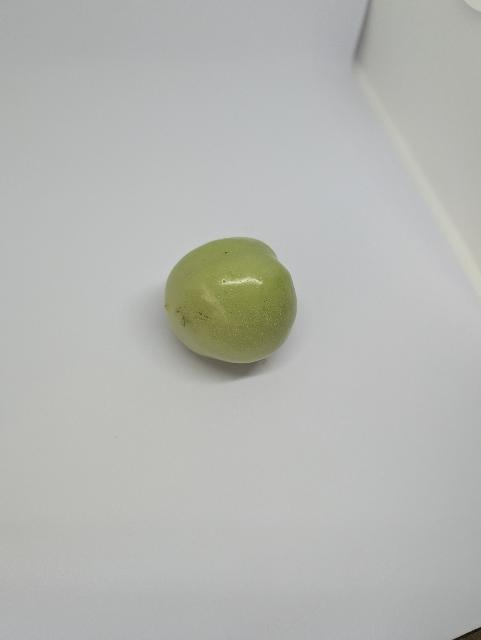green: (143, 227, 315, 384)
